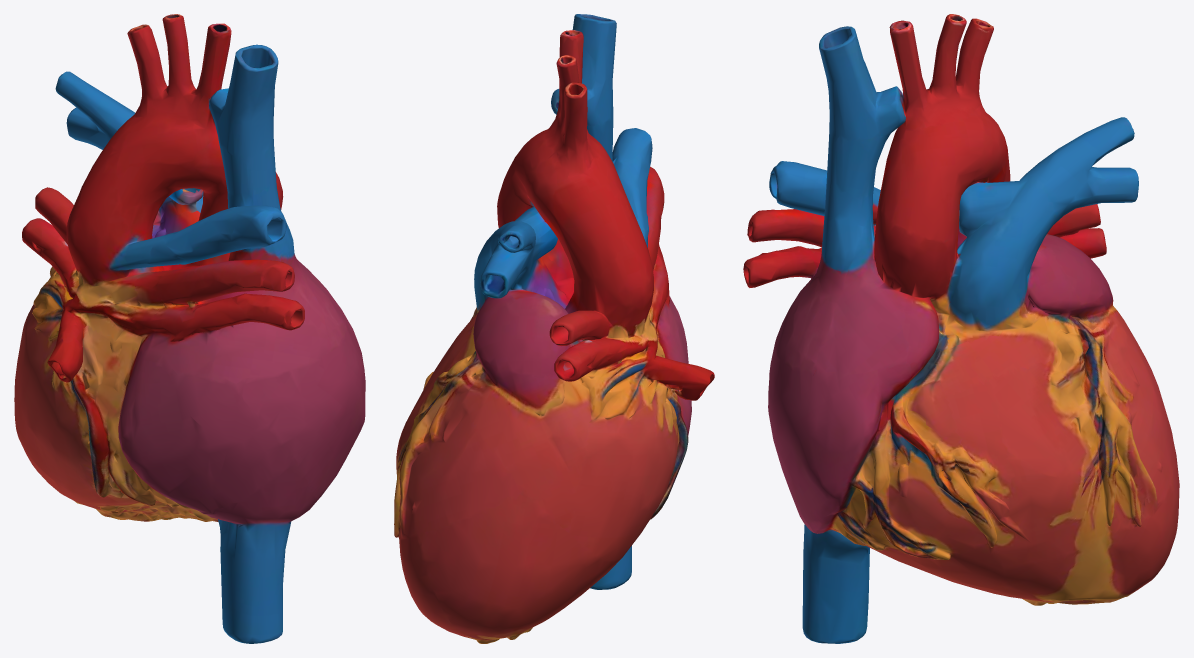
Rendered from heart.glb.
3 views of the same model, side by side, from view 1: azimuth 30°, elevation 25°; view 2: azimuth 150°, elevation 25°; view 3: azimuth 270°, elevation 25° (orthographic). The views are drawn at different scales.
Parts seen in each view (by area): view 1: tripo_node_045d8eb0-72ec-4624-9759-a425f321d17a; view 2: tripo_node_045d8eb0-72ec-4624-9759-a425f321d17a; view 3: tripo_node_045d8eb0-72ec-4624-9759-a425f321d17a.
Boxes of the visible parts, box(x1,y1,x2,y2) form: tripo_node_045d8eb0-72ec-4624-9759-a425f321d17a: box(14, 14, 365, 643); tripo_node_045d8eb0-72ec-4624-9759-a425f321d17a: box(394, 14, 714, 643); tripo_node_045d8eb0-72ec-4624-9759-a425f321d17a: box(743, 14, 1179, 643).
Size of the model in its own units: 1 by 2 by 1.3.
1 material, 1 textured.
